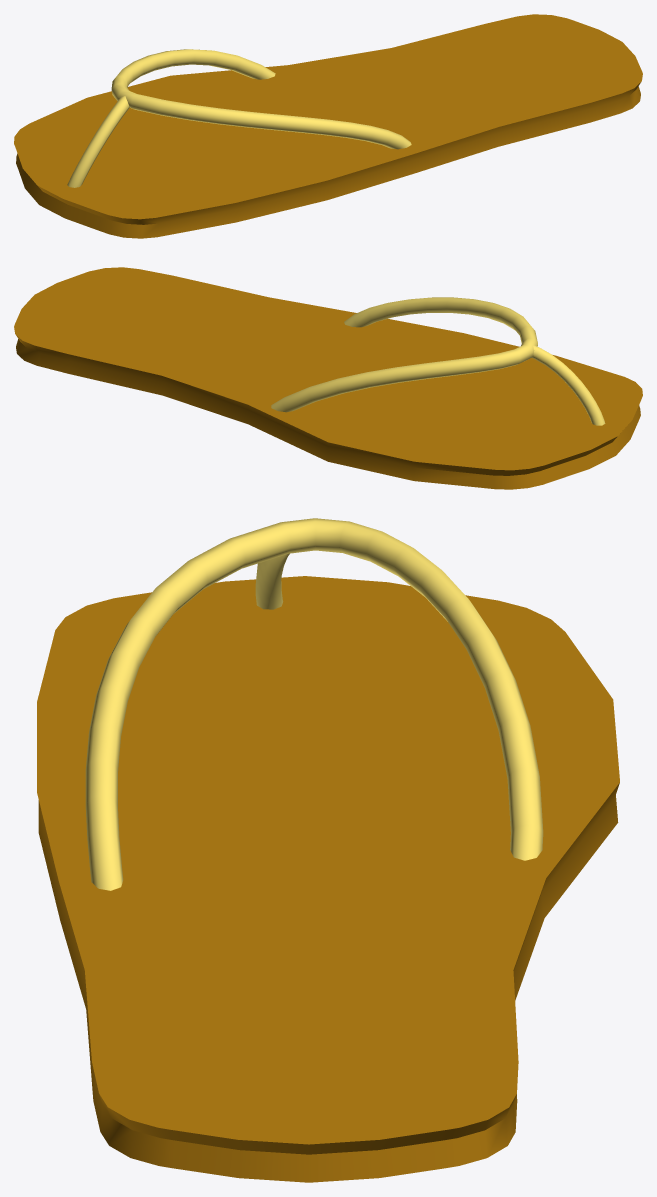
Rendered from Chancla.fbx.
3 views of the same model, one above another, from view 1: azimuth 30°, elevation 25°; view 2: azimuth 150°, elevation 25°; view 3: azimuth 270°, elevation 25° (orthographic). The views are drawn at different scales.
Parts seen in each view (by area): view 1: Cube, BézierCurve, BézierCurve.001; view 2: Cube, BézierCurve, BézierCurve.001; view 3: Cube, BézierCurve, BézierCurve.001.
Part boxes in pixels (x1,y1,x2,y2): Cube: [14, 14, 642, 238]; BézierCurve: [111, 49, 411, 149]; BézierCurve.001: [67, 96, 129, 187]; Cube: [14, 267, 642, 489]; BézierCurve: [271, 297, 537, 412]; BézierCurve.001: [531, 345, 605, 425]; Cube: [37, 576, 619, 1182]; BézierCurve: [85, 518, 543, 890]; BézierCurve.001: [255, 553, 289, 609].
Size of the model in its own units: 1243 by 186 by 539.
